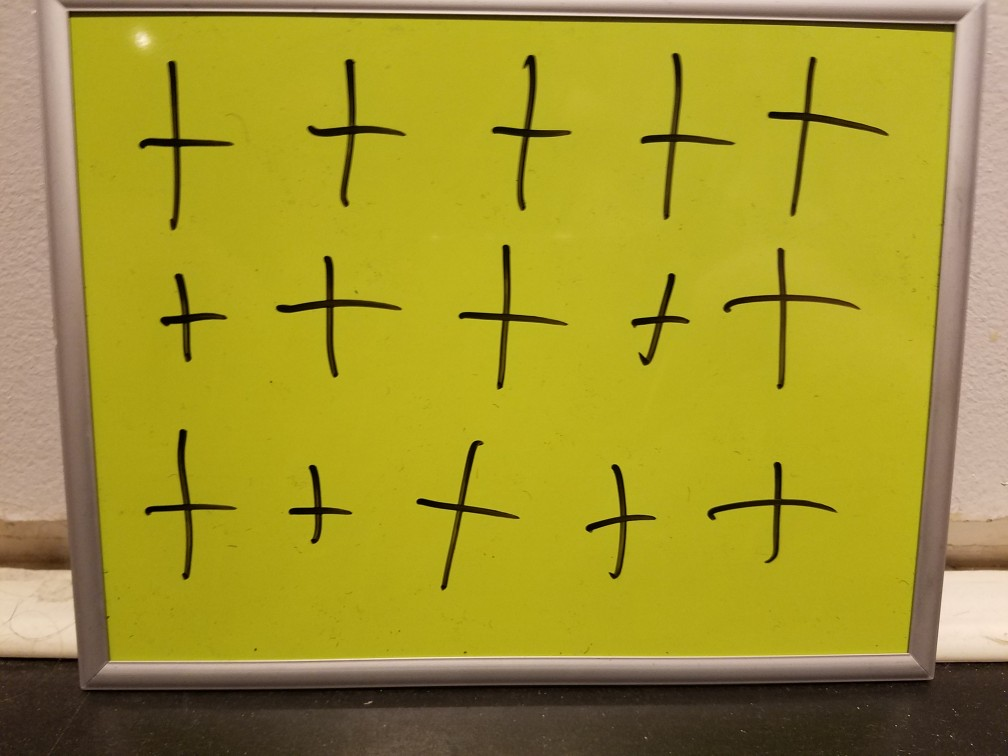+: (712, 238, 885, 410), (254, 239, 423, 394), (758, 40, 895, 230), (405, 422, 539, 612), (434, 233, 576, 409), (683, 448, 860, 585), (620, 33, 740, 232), (130, 404, 250, 594), (120, 51, 236, 241), (475, 44, 597, 222), (294, 50, 418, 216), (579, 445, 662, 593), (150, 265, 247, 374), (610, 264, 695, 383), (277, 451, 359, 560)
